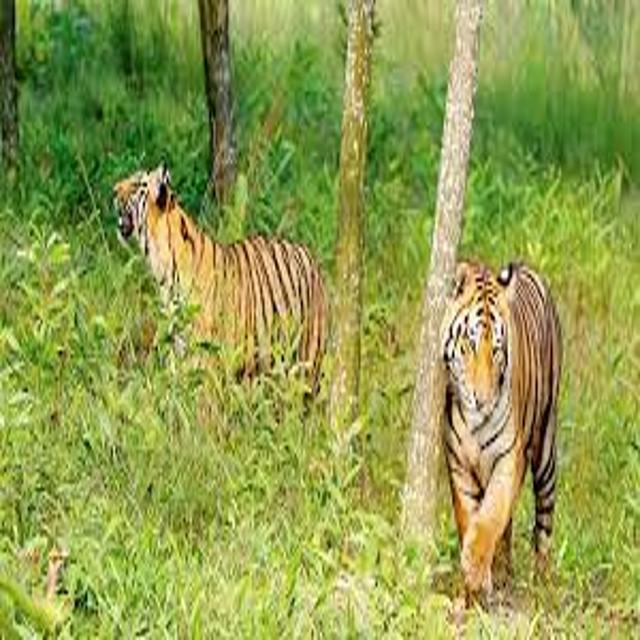tiger: (67, 141, 365, 446), (394, 232, 599, 638)
